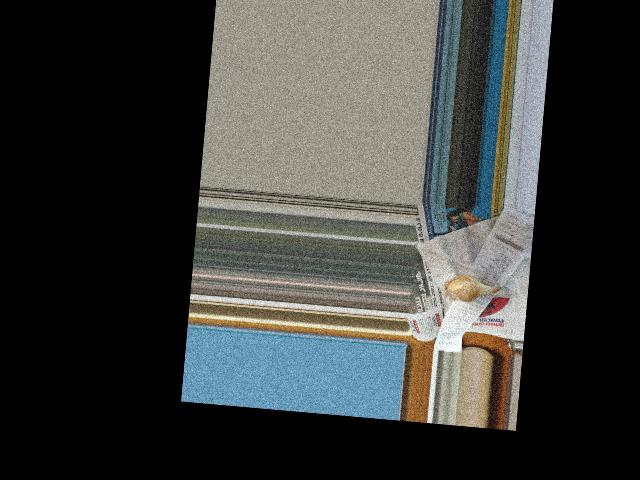onion: (447, 273, 497, 302)
